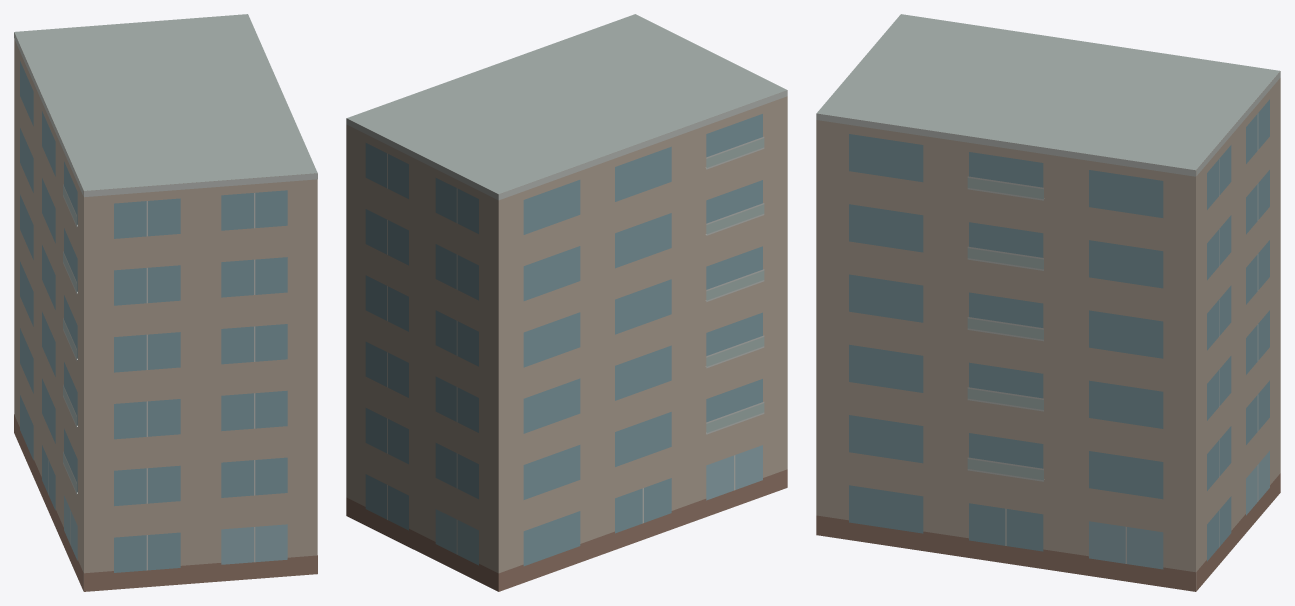
The model's file is survey-upis-32850282.glb.
3 views of the same model, side by side, from view 1: azimuth 30°, elevation 25°; view 2: azimuth 150°, elevation 25°; view 3: azimuth 270°, elevation 25° (orthographic). The views are drawn at different scales.
Visible parts, largest first — view 1: survey-upis-32850282.tmp; view 2: survey-upis-32850282.tmp; view 3: survey-upis-32850282.tmp.
Part boxes in pixels (box(x1,y1,x2,y2)): survey-upis-32850282.tmp: box(14, 14, 317, 591); survey-upis-32850282.tmp: box(346, 14, 787, 591); survey-upis-32850282.tmp: box(816, 14, 1280, 591).
Size of the model in its own units: 12.57 by 15.8 by 15.78.
